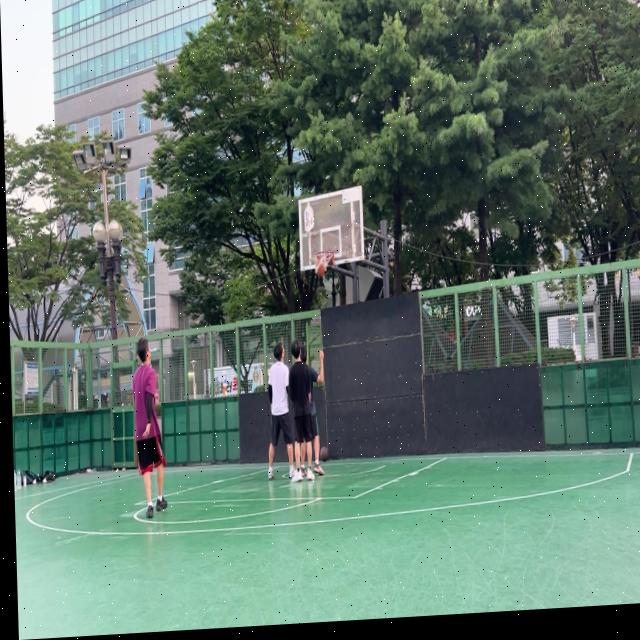basketball: (320, 446, 328, 463)
hoop: (314, 250, 335, 278), (314, 250, 334, 274)
